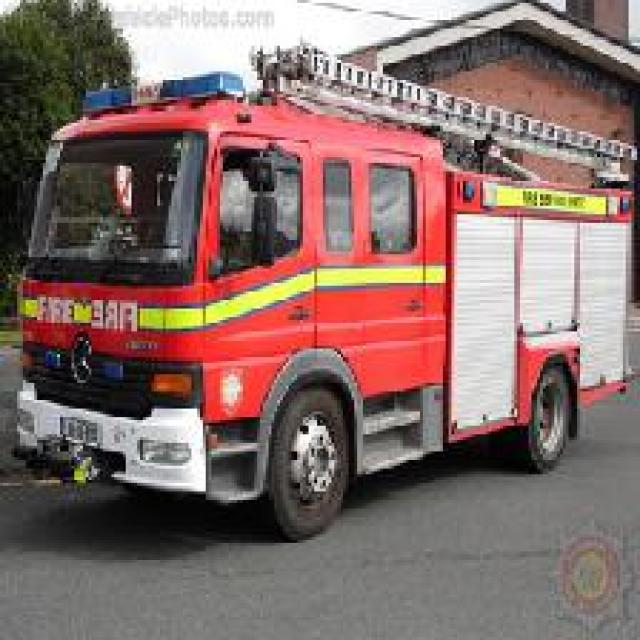Fire-truck: (12, 40, 637, 540)
